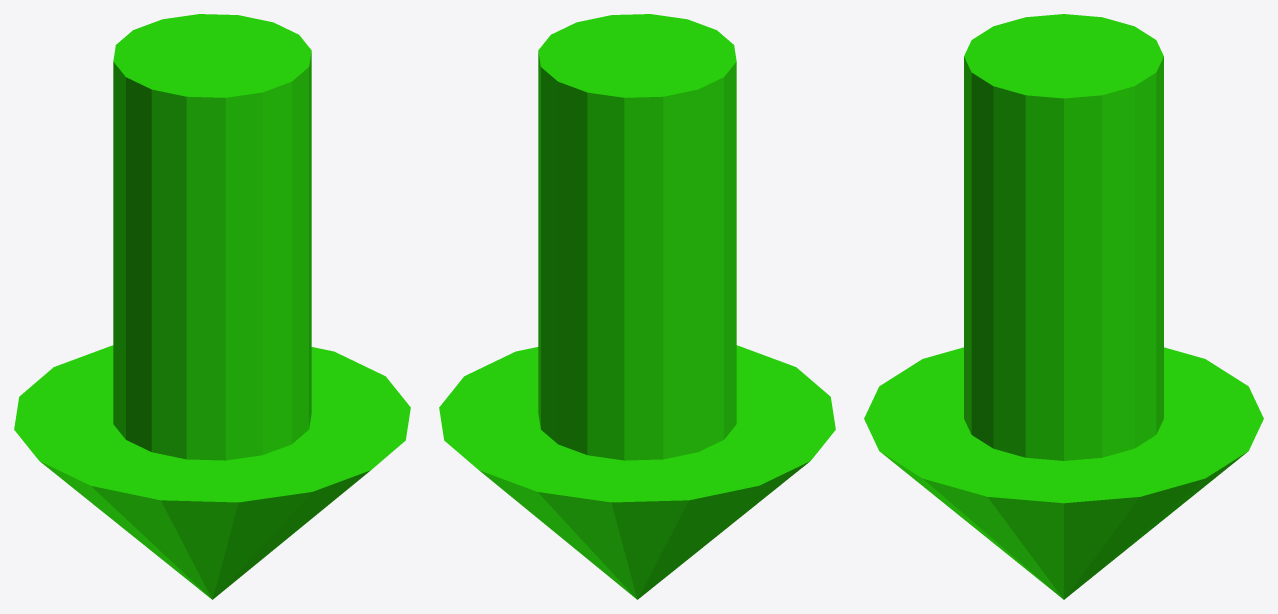
The model's file is animationassets1.fbx.
3 views of the same model, side by side, from view 1: azimuth 30°, elevation 25°; view 2: azimuth 150°, elevation 25°; view 3: azimuth 270°, elevation 25° (orthographic).
Parts seen in each view (by area): view 1: Cylinder; view 2: Cylinder; view 3: Cylinder.
Part boxes in pixels (x1,y1,x2,y2): Cylinder: (14, 14, 410, 599); Cylinder: (439, 14, 835, 599); Cylinder: (864, 14, 1263, 599).
Size of the model in its own units: 3200 by 4800 by 3200.
